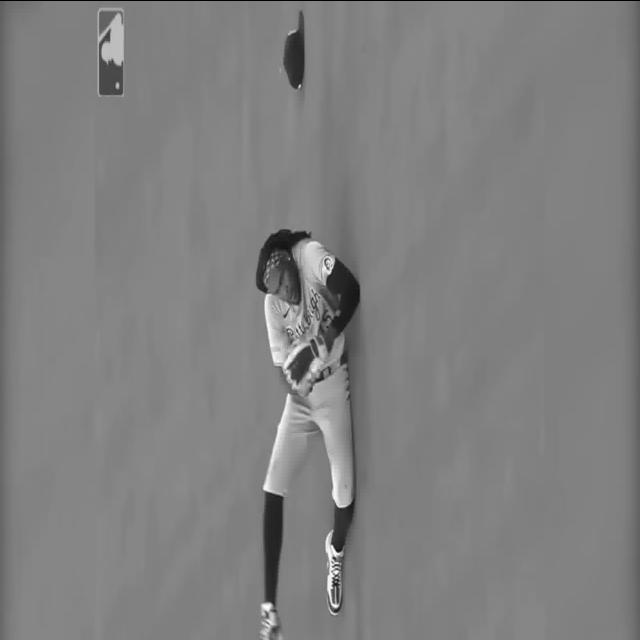baseball_glove: (282, 324, 327, 398)
shoe: (325, 528, 349, 612), (259, 607, 283, 640)
